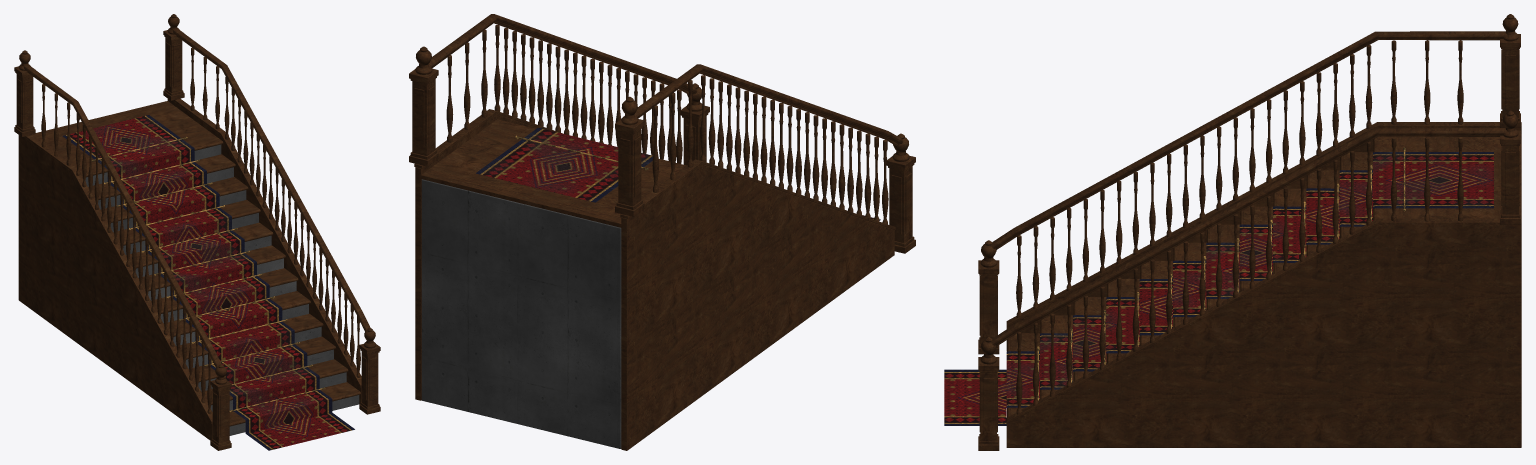
The model's file is Stairs_Grand.gltf.
The picture shows the model from 3 angles, left to right: view 1: azimuth 30°, elevation 25°; view 2: azimuth 150°, elevation 25°; view 3: azimuth 270°, elevation 25°; orthographic projection. The views are drawn at different scales.
Visible parts, largest first — view 1: Stairs_Grand_Wood, Stairs_Grand_Carpet, Stairs_Grand_Stone; view 2: Stairs_Grand_Wood, Stairs_Grand_Stone, Stairs_Grand_Carpet; view 3: Stairs_Grand_Wood, Stairs_Grand_Carpet.
Part boxes in pixels (left/top/right/bottom): Stairs_Grand_Wood: left=14, top=14, right=380, bottom=450; Stairs_Grand_Carpet: left=62, top=115, right=354, bottom=450; Stairs_Grand_Stone: left=85, top=144, right=359, bottom=435; Stairs_Grand_Wood: left=409, top=14, right=915, bottom=450; Stairs_Grand_Stone: left=421, top=179, right=621, bottom=448; Stairs_Grand_Carpet: left=476, top=128, right=880, bottom=220; Stairs_Grand_Wood: left=978, top=14, right=1521, bottom=450; Stairs_Grand_Carpet: left=944, top=152, right=1493, bottom=425.
Size of what is drawn, in the model's own units: 2.25 by 3.34 by 5.2.
4 materials, 4 textured.
